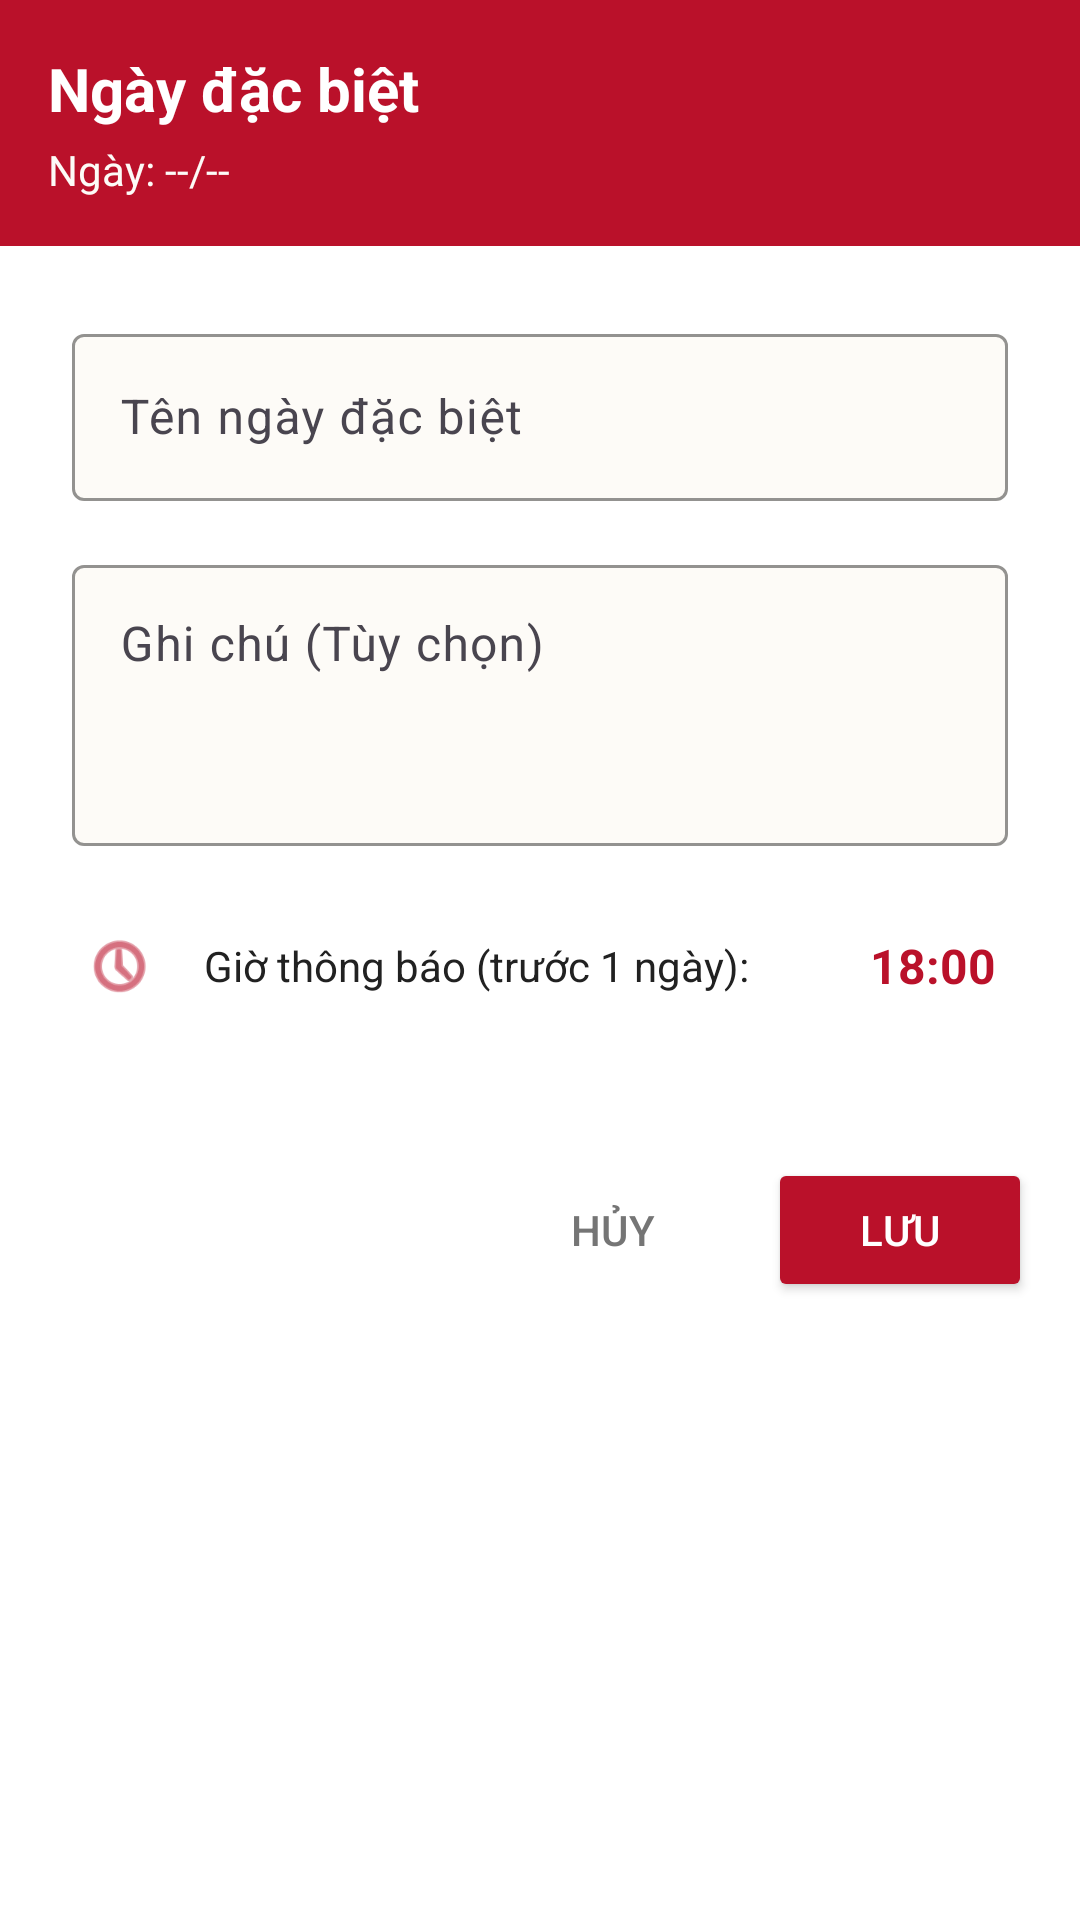

Where icons sit on this 1080px×1920px app screen, as (left=x1, top=y1, right=x2, bottom=y2):
recent history: (left=93, top=940, right=146, bottom=992)
